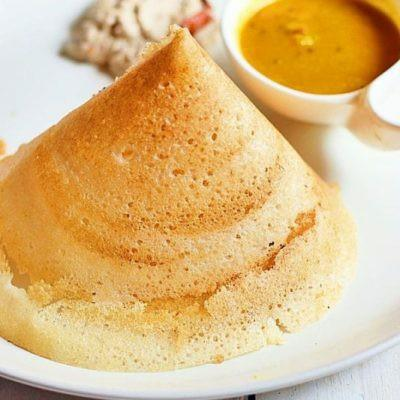Dosa: (0, 26, 357, 372)
